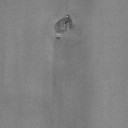slag inclusion: (54, 14, 76, 34), (55, 36, 62, 40)
